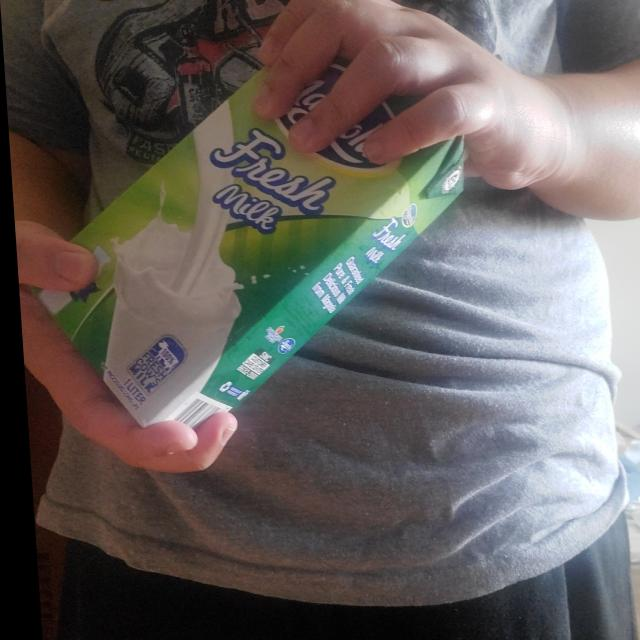milk: (16, 39, 476, 436)
